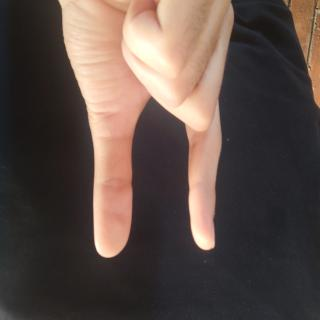DELL: (0, 102, 200, 320)
